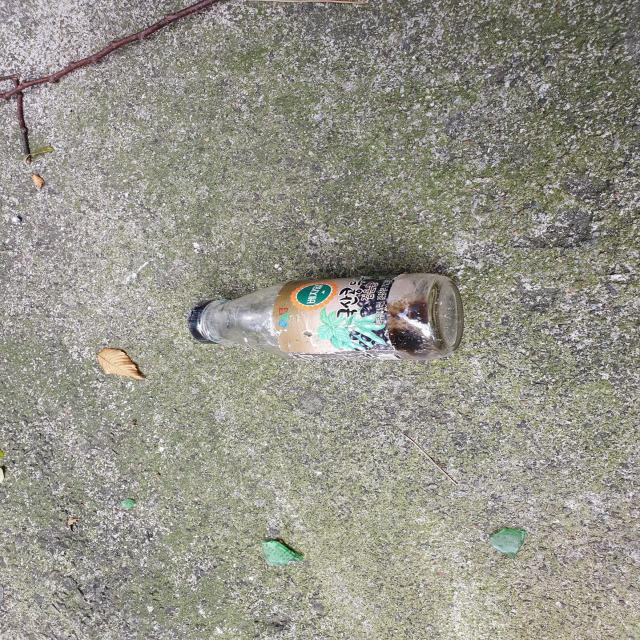glass: (188, 273, 463, 360)
